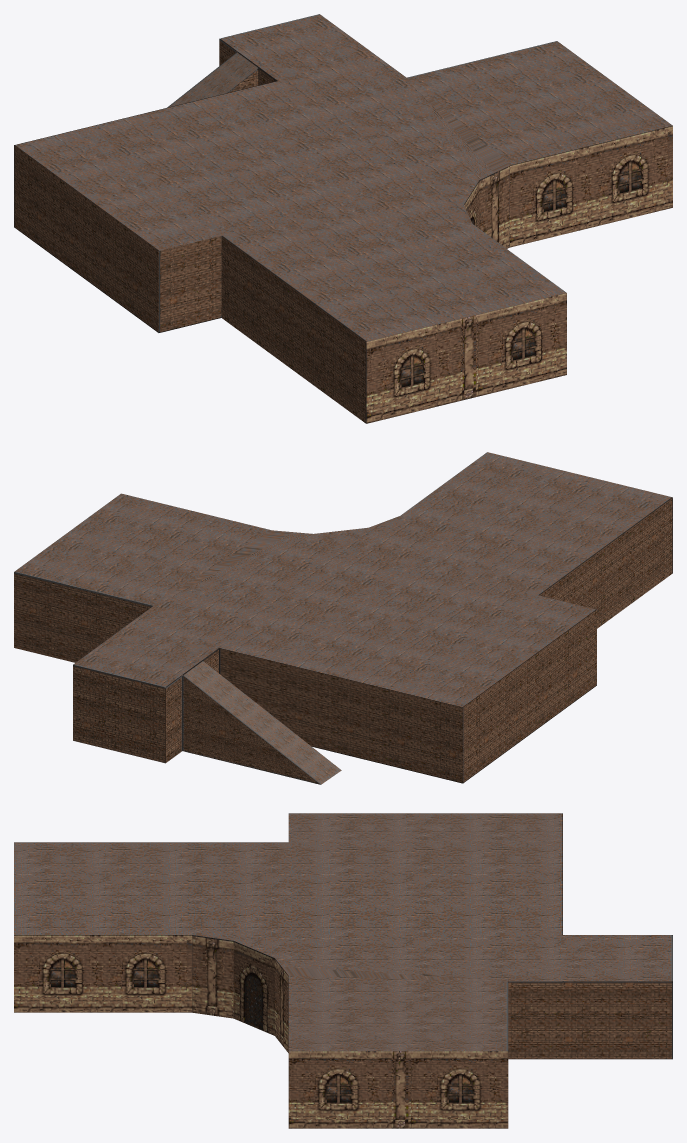
File: tos-bldg09.dae
3 views of the same model, one above another, from view 1: azimuth 30°, elevation 25°; view 2: azimuth 150°, elevation 25°; view 3: azimuth 270°, elevation 25° (orthographic). The views are drawn at different scales.
Visible parts, largest first — view 1: Plane; view 2: Plane; view 3: Plane.
Part boxes in pixels (x1,y1,x2,y2): Plane: (14,14,672,423); Plane: (14,452,672,784); Plane: (14,813,672,1128).
Size of the model in its own units: 1.67 by 1.95 by 0.254.
1 material, 1 textured.
